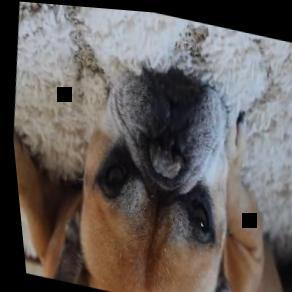keratosis: (140, 138, 187, 183)
